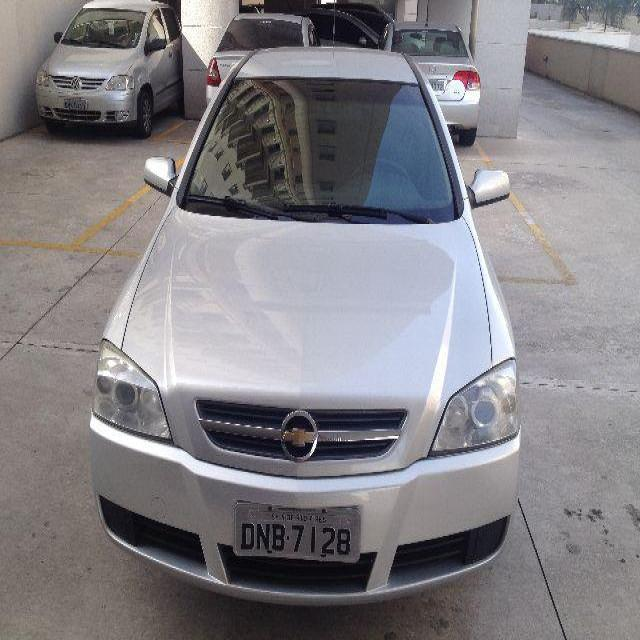Placa: (229, 491, 367, 567)
